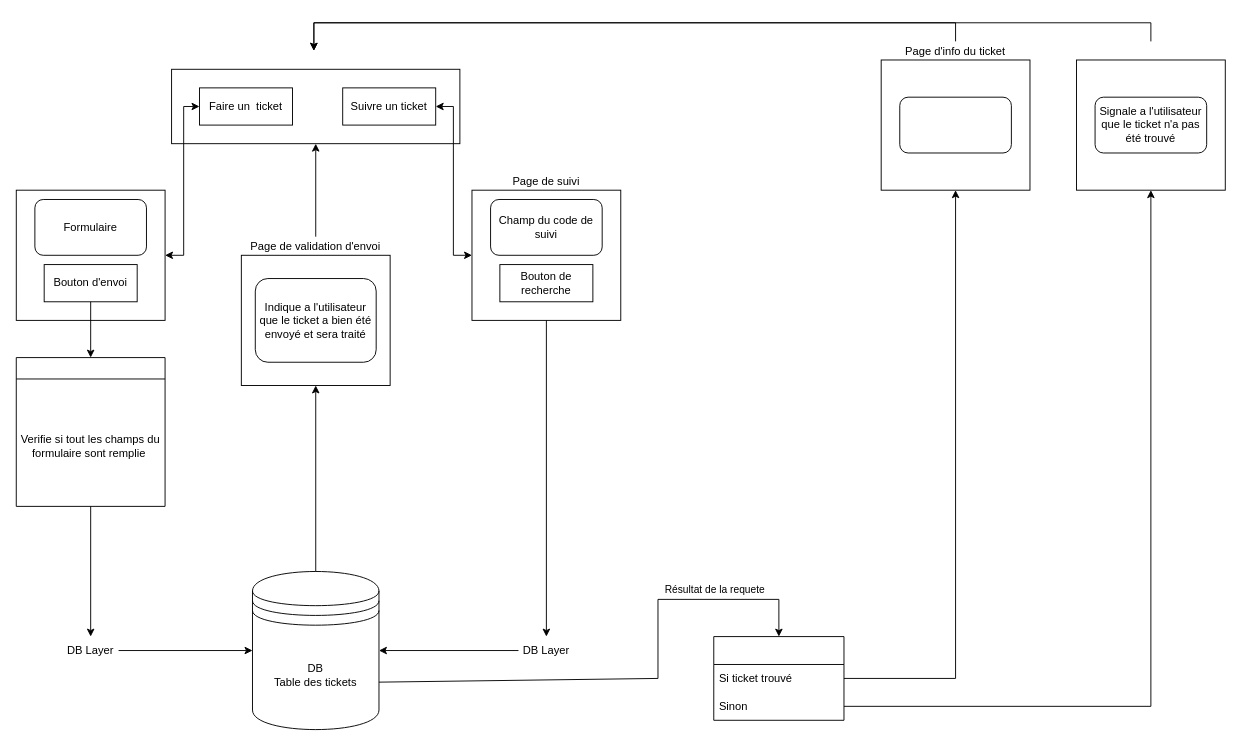
This 1242x746 diagram has some shape labels left out. The box of each missing label's shape, as (x1, y1, x2, y2) in pixels:
Condition: (713, 636, 844, 720)
Fonction de vérification: (15, 357, 165, 506)
Information sur le ticket: (899, 96, 1011, 153)
Page d'accueil: (171, 68, 460, 144)
Page d'erreur du ticket: (1076, 59, 1225, 190)
Page de signalement: (15, 189, 165, 320)
